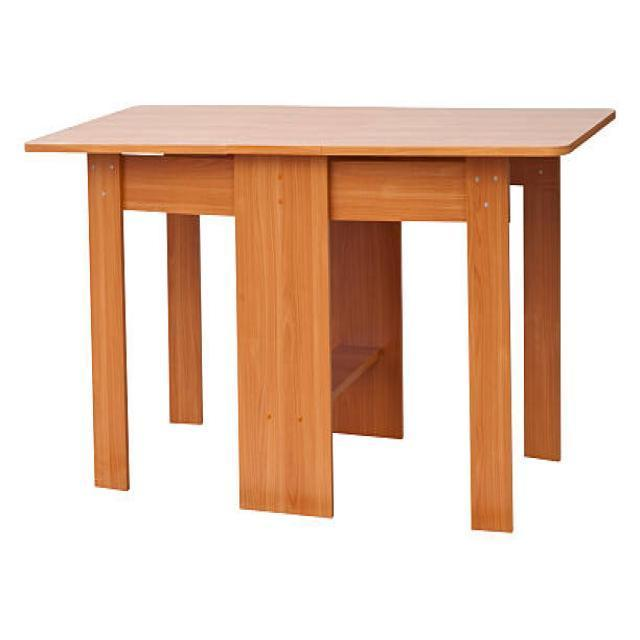table: (24, 102, 616, 532)
